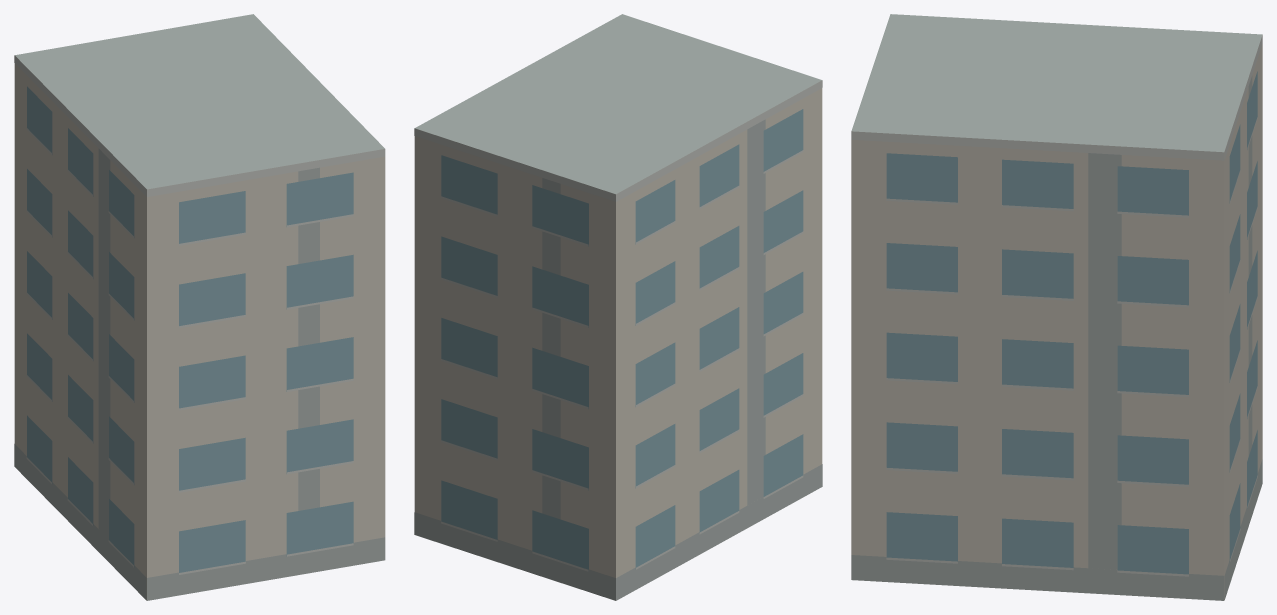
Rendered from survey-upis-32963981.glb.
The picture shows the model from 3 angles, left to right: view 1: azimuth 30°, elevation 25°; view 2: azimuth 150°, elevation 25°; view 3: azimuth 270°, elevation 25°; orthographic projection. The views are drawn at different scales.
Parts seen in each view (by area): view 1: survey-upis-32963981.tmp; view 2: survey-upis-32963981.tmp; view 3: survey-upis-32963981.tmp.
Boxes of the visible parts, box(x1,y1,x2,y2) form: survey-upis-32963981.tmp: box(14, 14, 385, 600); survey-upis-32963981.tmp: box(414, 14, 822, 600); survey-upis-32963981.tmp: box(851, 14, 1262, 600).
Bounding box in the file's own units: 8.6 × 13 × 10.81.
